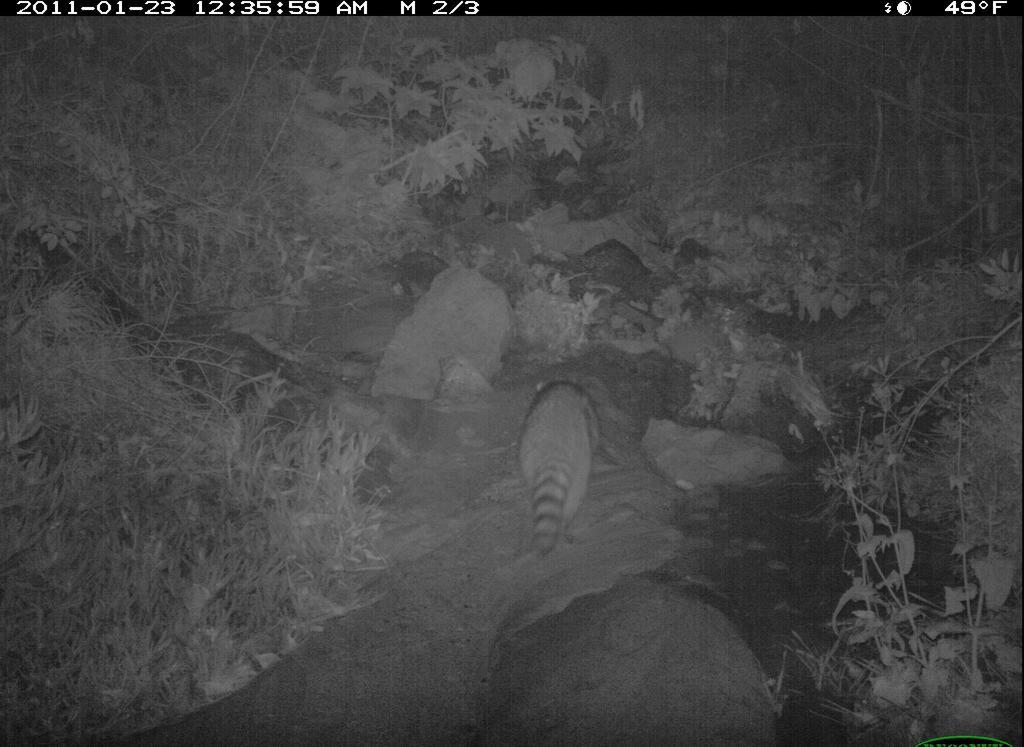raccoon: (464, 369, 623, 577)
